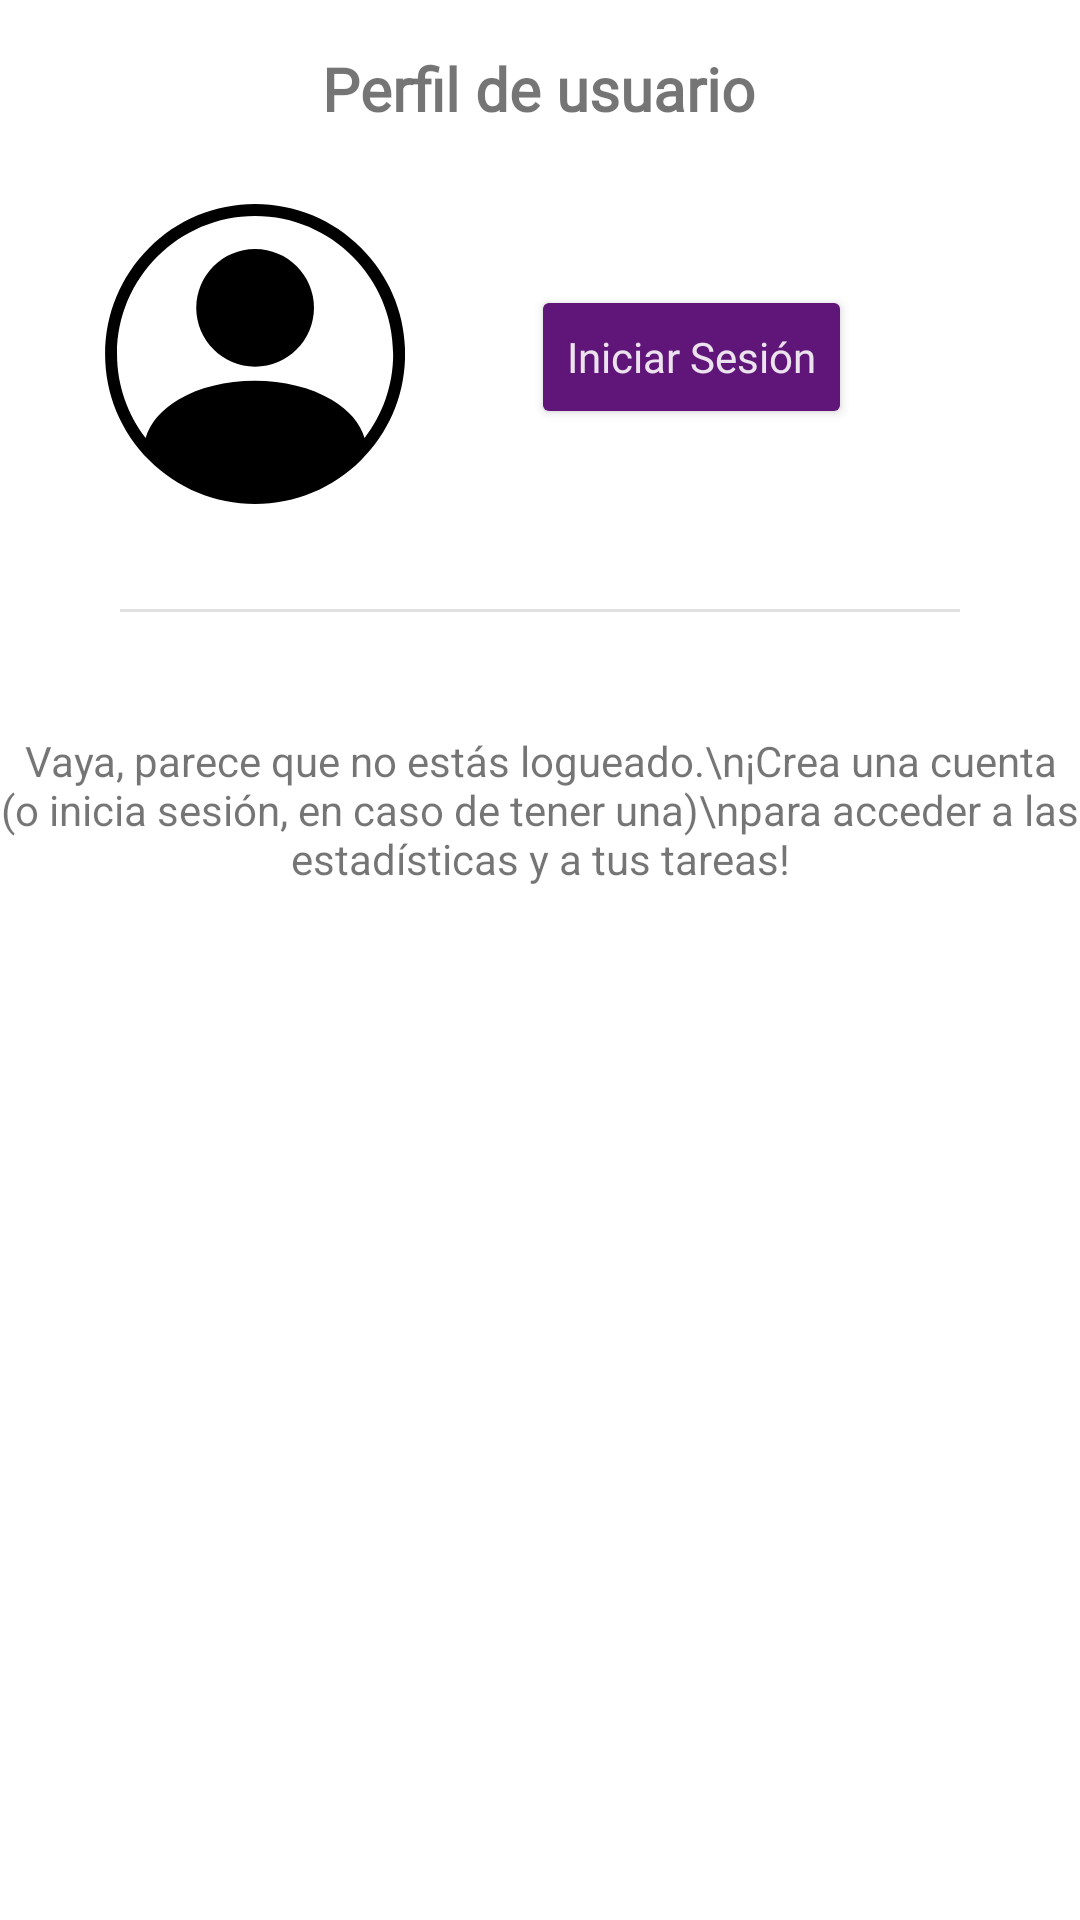

Where to tap for icons on this 1080 × 1920 app screen, as [x,y]:
user sin login: [255,354]
